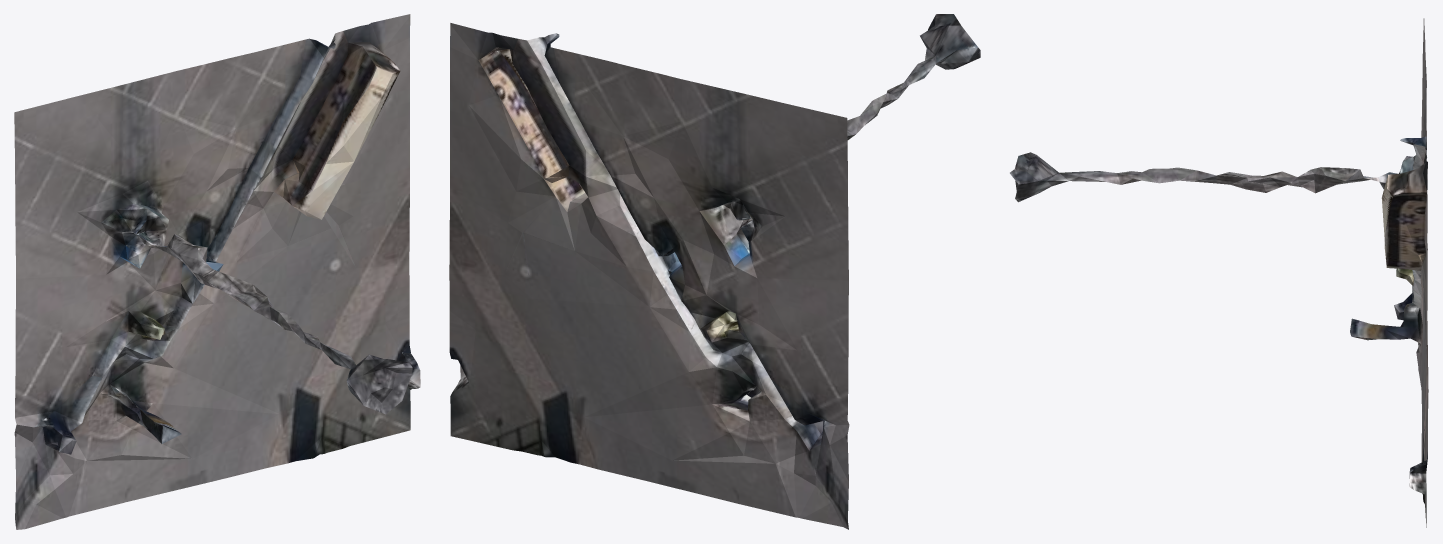
The model's file is Tile_+038_+019_L19_000023.obj.
3 views of the same model, side by side, from view 1: azimuth 30°, elevation 25°; view 2: azimuth 150°, elevation 25°; view 3: azimuth 270°, elevation 25° (orthographic). The views are drawn at different scales.
Size of the model in its own units: 31.75 by 31.75 by 34.27.
Materials: 1 (1 with a texture image).
